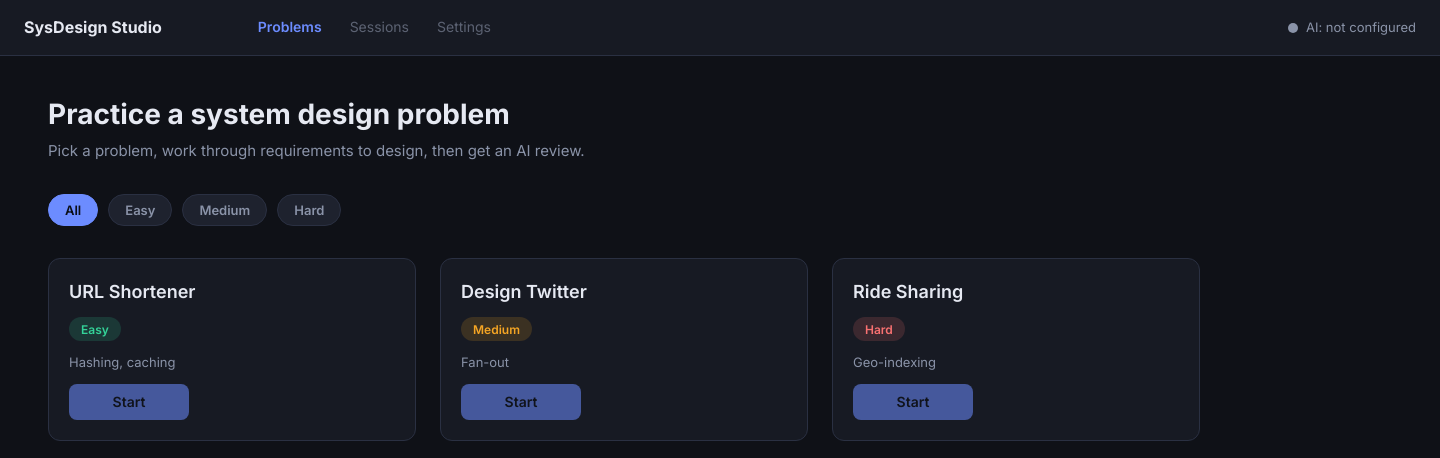
Scenario: HomePage › filters by difficulty through the API and marks the selected chip
Expected: the heading "URL Shortener" is shown, x1=69 y1=279 x2=196 y2=305
Step 1. Click the button "Hard" → click(309, 210), box x1=277 y1=194 x2=342 y2=226
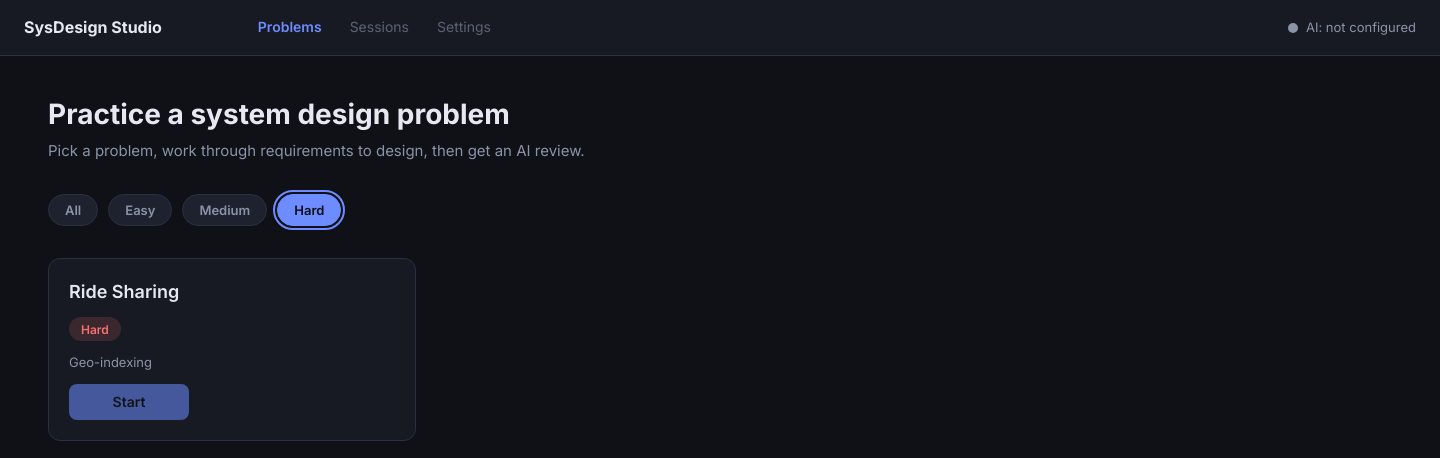
Expected: the heading "Ride Sharing" is shown, x1=69 y1=279 x2=179 y2=305
Result: the heading "URL Shortener" is gone
